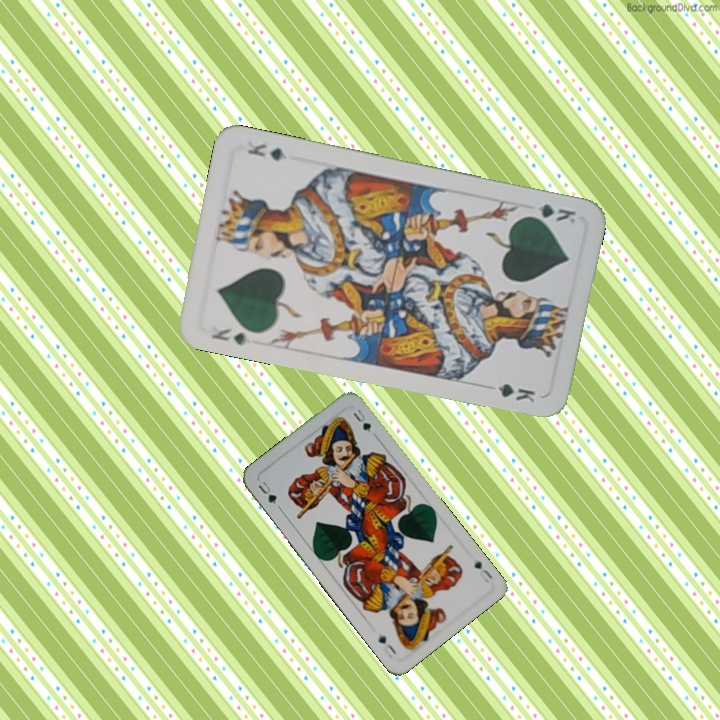GK: (521, 199, 579, 226), (208, 324, 250, 348)
GU: (254, 477, 283, 512), (470, 556, 495, 586)
